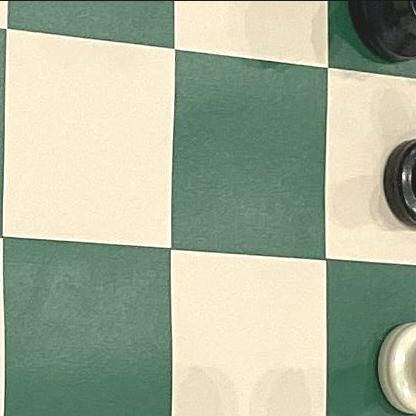black-pawn: (375, 119, 416, 234)
white-pawn: (371, 309, 416, 416)
